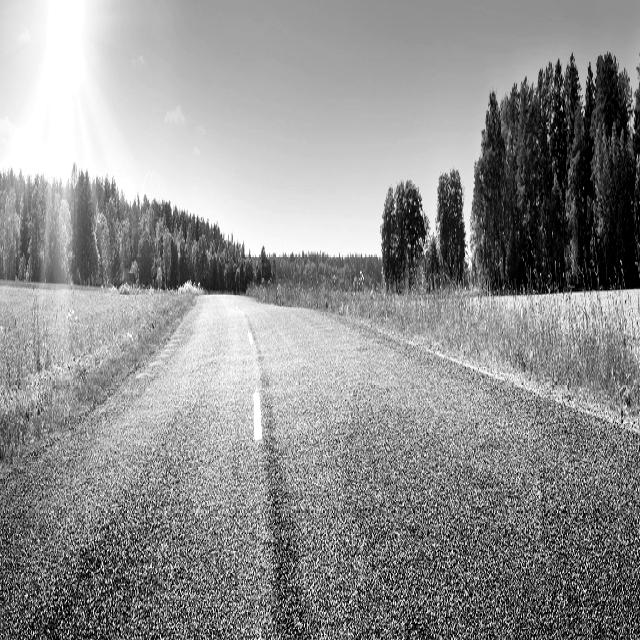cleat: (123, 108, 598, 601)
